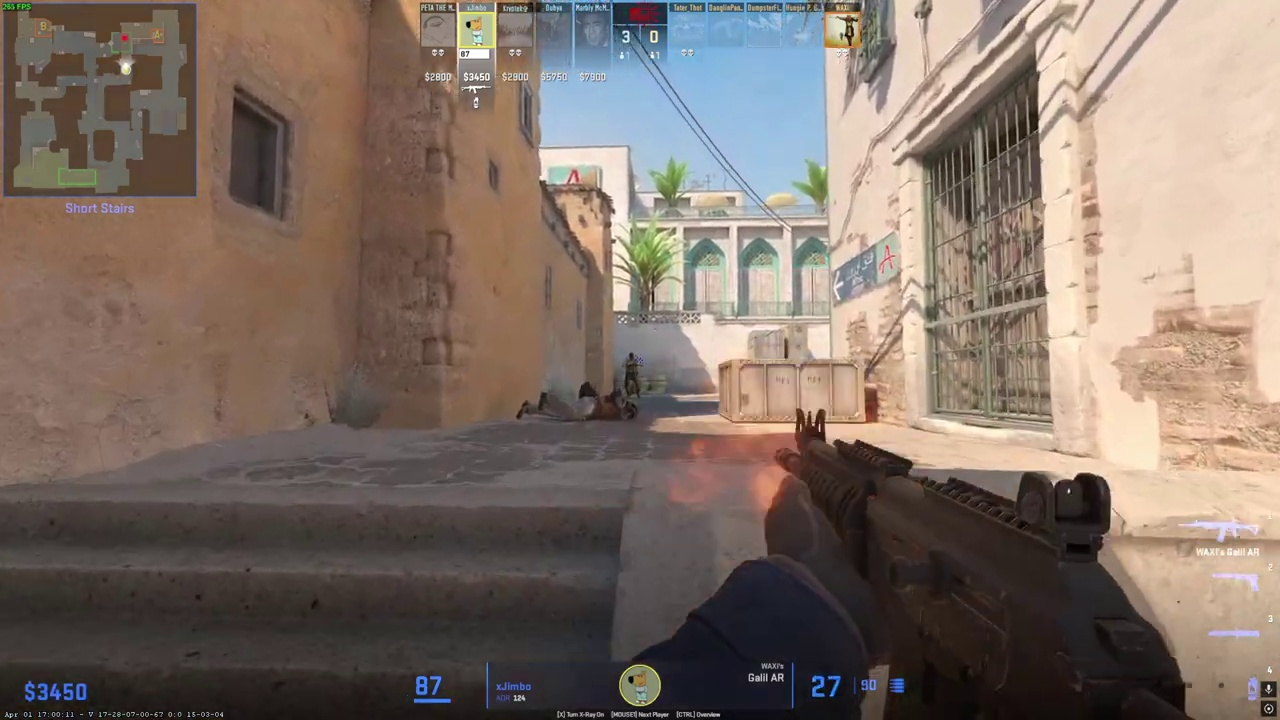Terrorist: (624, 352, 641, 399)
